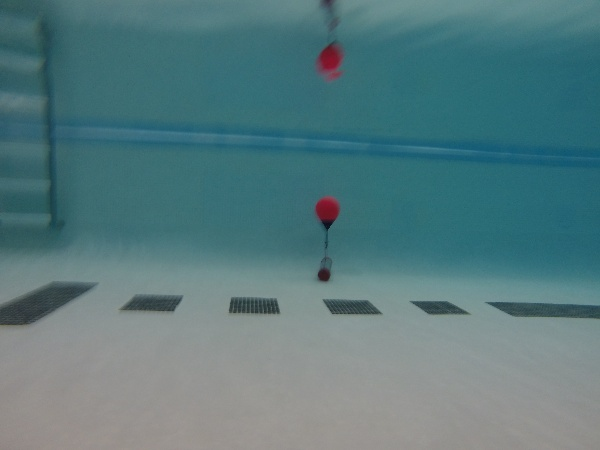buoy_red: (312, 194, 342, 231)
